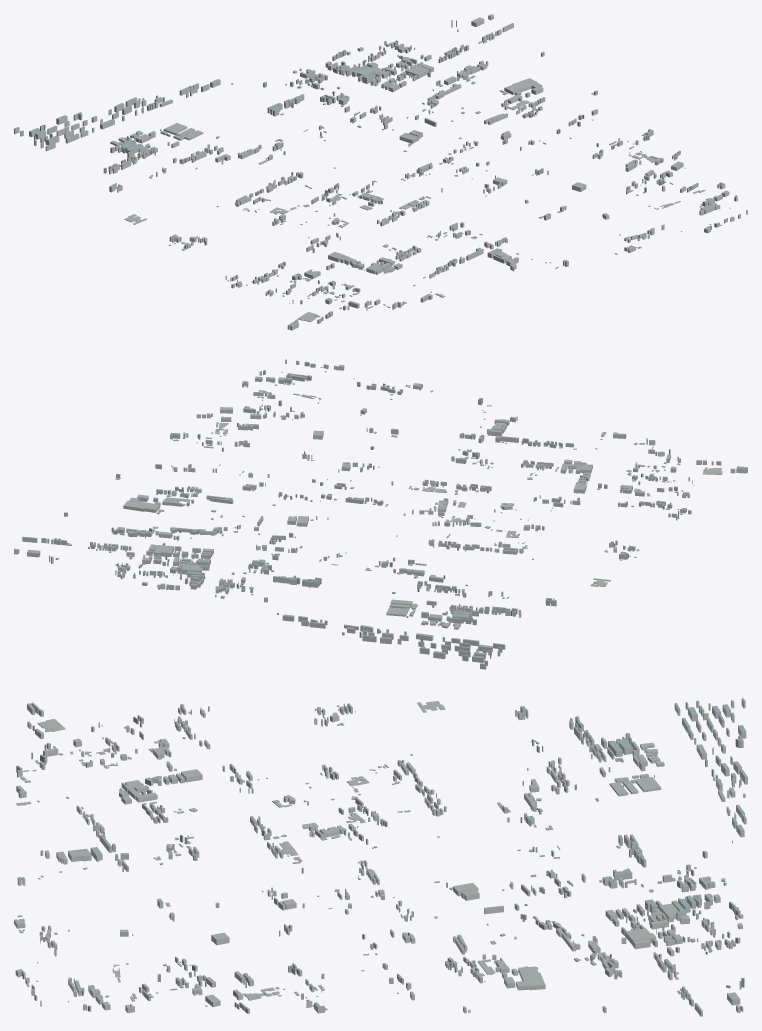
File: far.glb
The picture shows the model from 3 angles, top to bottom: view 1: azimuth 30°, elevation 25°; view 2: azimuth 150°, elevation 25°; view 3: azimuth 270°, elevation 25°; orthographic projection. The views are drawn at different scales.
Bounding box in the file's own units: 2156 × 28.6 × 2122.
